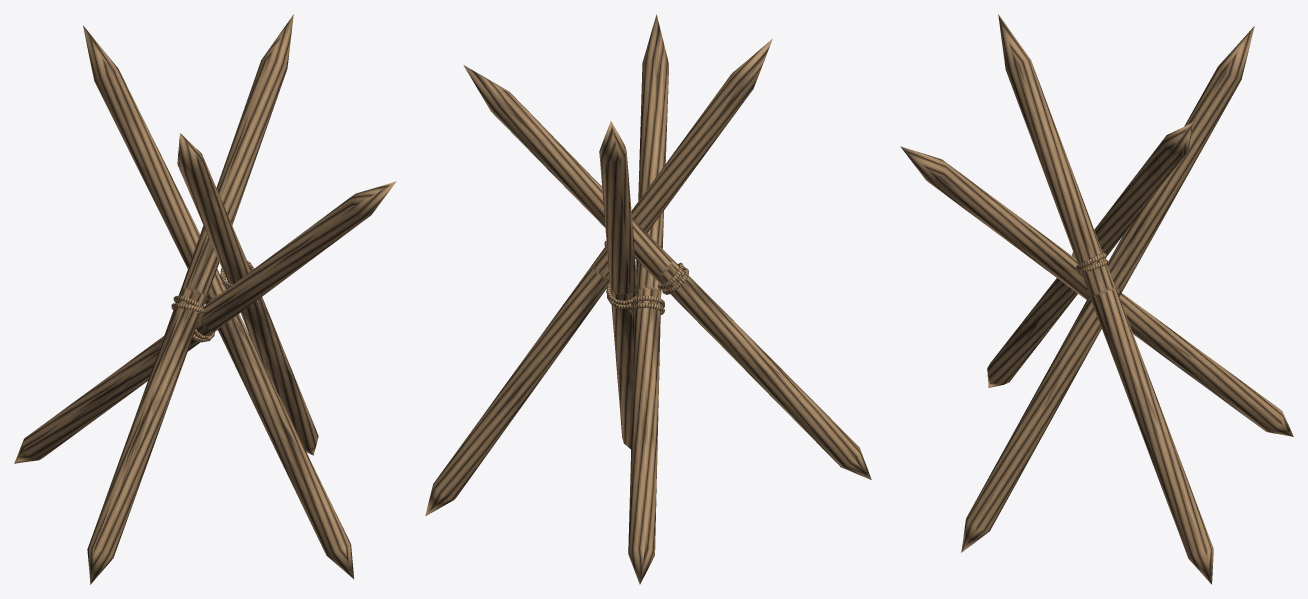
Rendered from SM_Wood_Spike_Barricade1.fbx.
3 views of the same model, side by side, from view 1: azimuth 30°, elevation 25°; view 2: azimuth 150°, elevation 25°; view 3: azimuth 270°, elevation 25° (orthographic).
Parts seen in each view (by area): view 1: SM_Wood_Spike_Barricade1; view 2: SM_Wood_Spike_Barricade1; view 3: SM_Wood_Spike_Barricade1.
Part boxes in pixels (x1,y1,x2,y2): SM_Wood_Spike_Barricade1: (14,14,396,584); SM_Wood_Spike_Barricade1: (425,14,871,584); SM_Wood_Spike_Barricade1: (900,14,1293,584).
Size of the model in its own units: 285 by 385 by 293.
